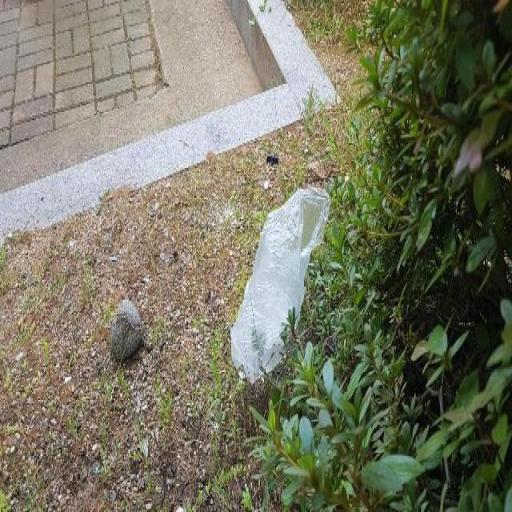plastic-bag: (225, 182, 331, 382)
